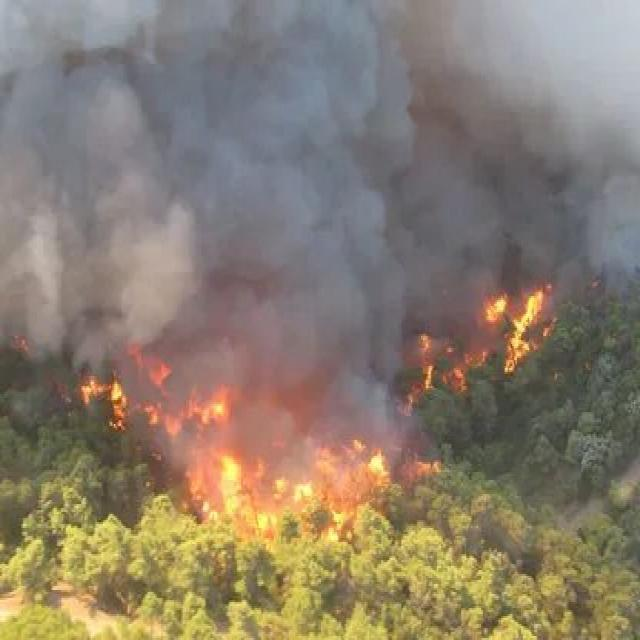Fire: (170, 404, 436, 538), (378, 257, 588, 419)
Smoke: (0, 0, 412, 372)
